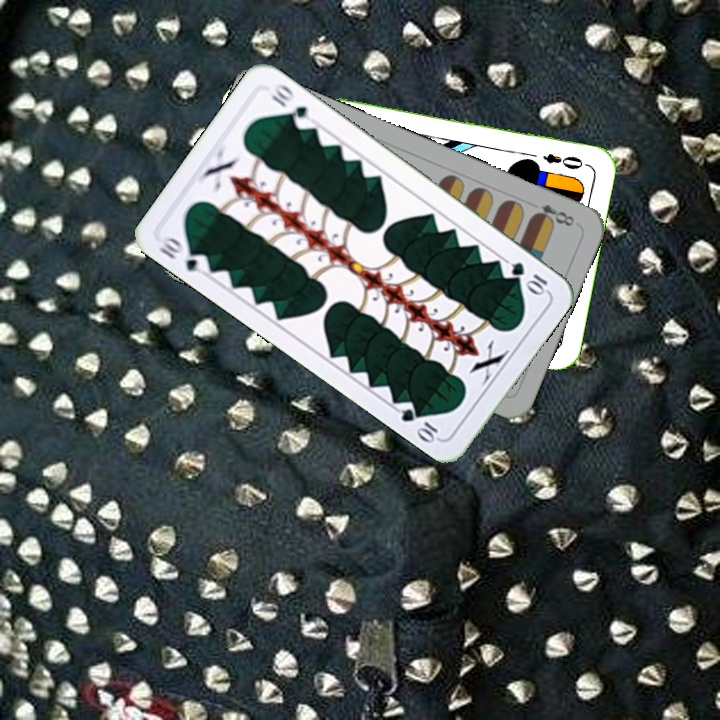E8: (528, 200, 578, 229)
EO: (539, 149, 591, 172)
G10: (155, 231, 212, 275), (506, 257, 550, 297)
